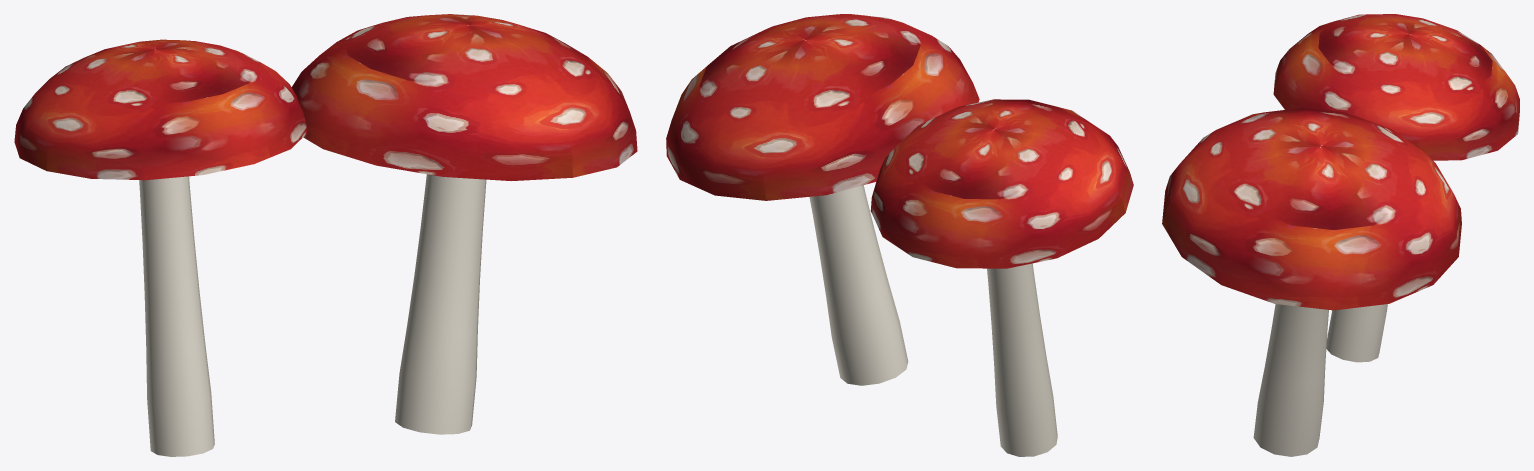
Rendered from fly_agaric1_s23788.gltf.
3 renders of one model, left to right at view 1: azimuth 30°, elevation 25°; view 2: azimuth 150°, elevation 25°; view 3: azimuth 270°, elevation 25°, orthographic. The views are drawn at different scales.
Visible parts, largest first — view 1: fly_agaric1_s23788_cap_LOD0, fly_agaric1_s23788_stem_LOD0; view 2: fly_agaric1_s23788_cap_LOD0, fly_agaric1_s23788_stem_LOD0; view 3: fly_agaric1_s23788_cap_LOD0, fly_agaric1_s23788_stem_LOD0.
Boxes of the visible parts, x1=… form: fly_agaric1_s23788_cap_LOD0: x1=14, y1=14, x2=637, y2=180; fly_agaric1_s23788_stem_LOD0: x1=139, y1=174, x2=486, y2=456; fly_agaric1_s23788_cap_LOD0: x1=666, y1=14, x2=1133, y2=268; fly_agaric1_s23788_stem_LOD0: x1=809, y1=185, x2=1057, y2=456; fly_agaric1_s23788_cap_LOD0: x1=1162, y1=14, x2=1519, y2=310; fly_agaric1_s23788_stem_LOD0: x1=1253, y1=304, x2=1387, y2=456.
Size of what is drawn, in the model's own units: 0.3293 by 0.2277 by 0.2268.
Materials: 3 (1 with a texture image).
